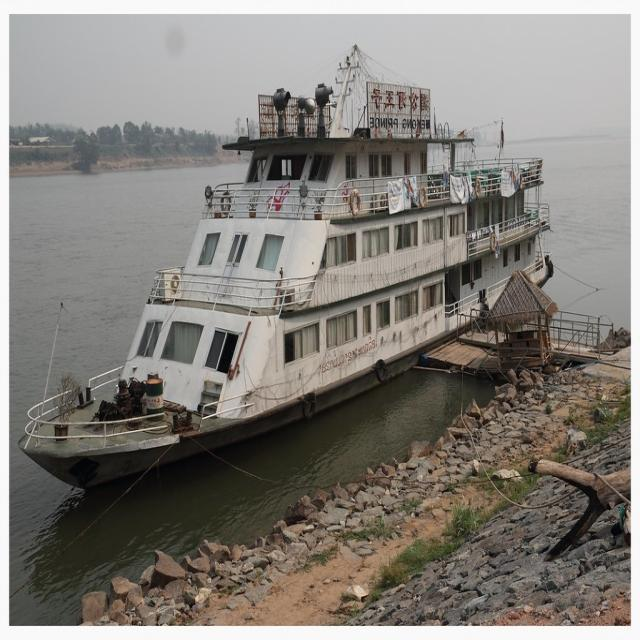boat: (14, 79, 564, 480)
